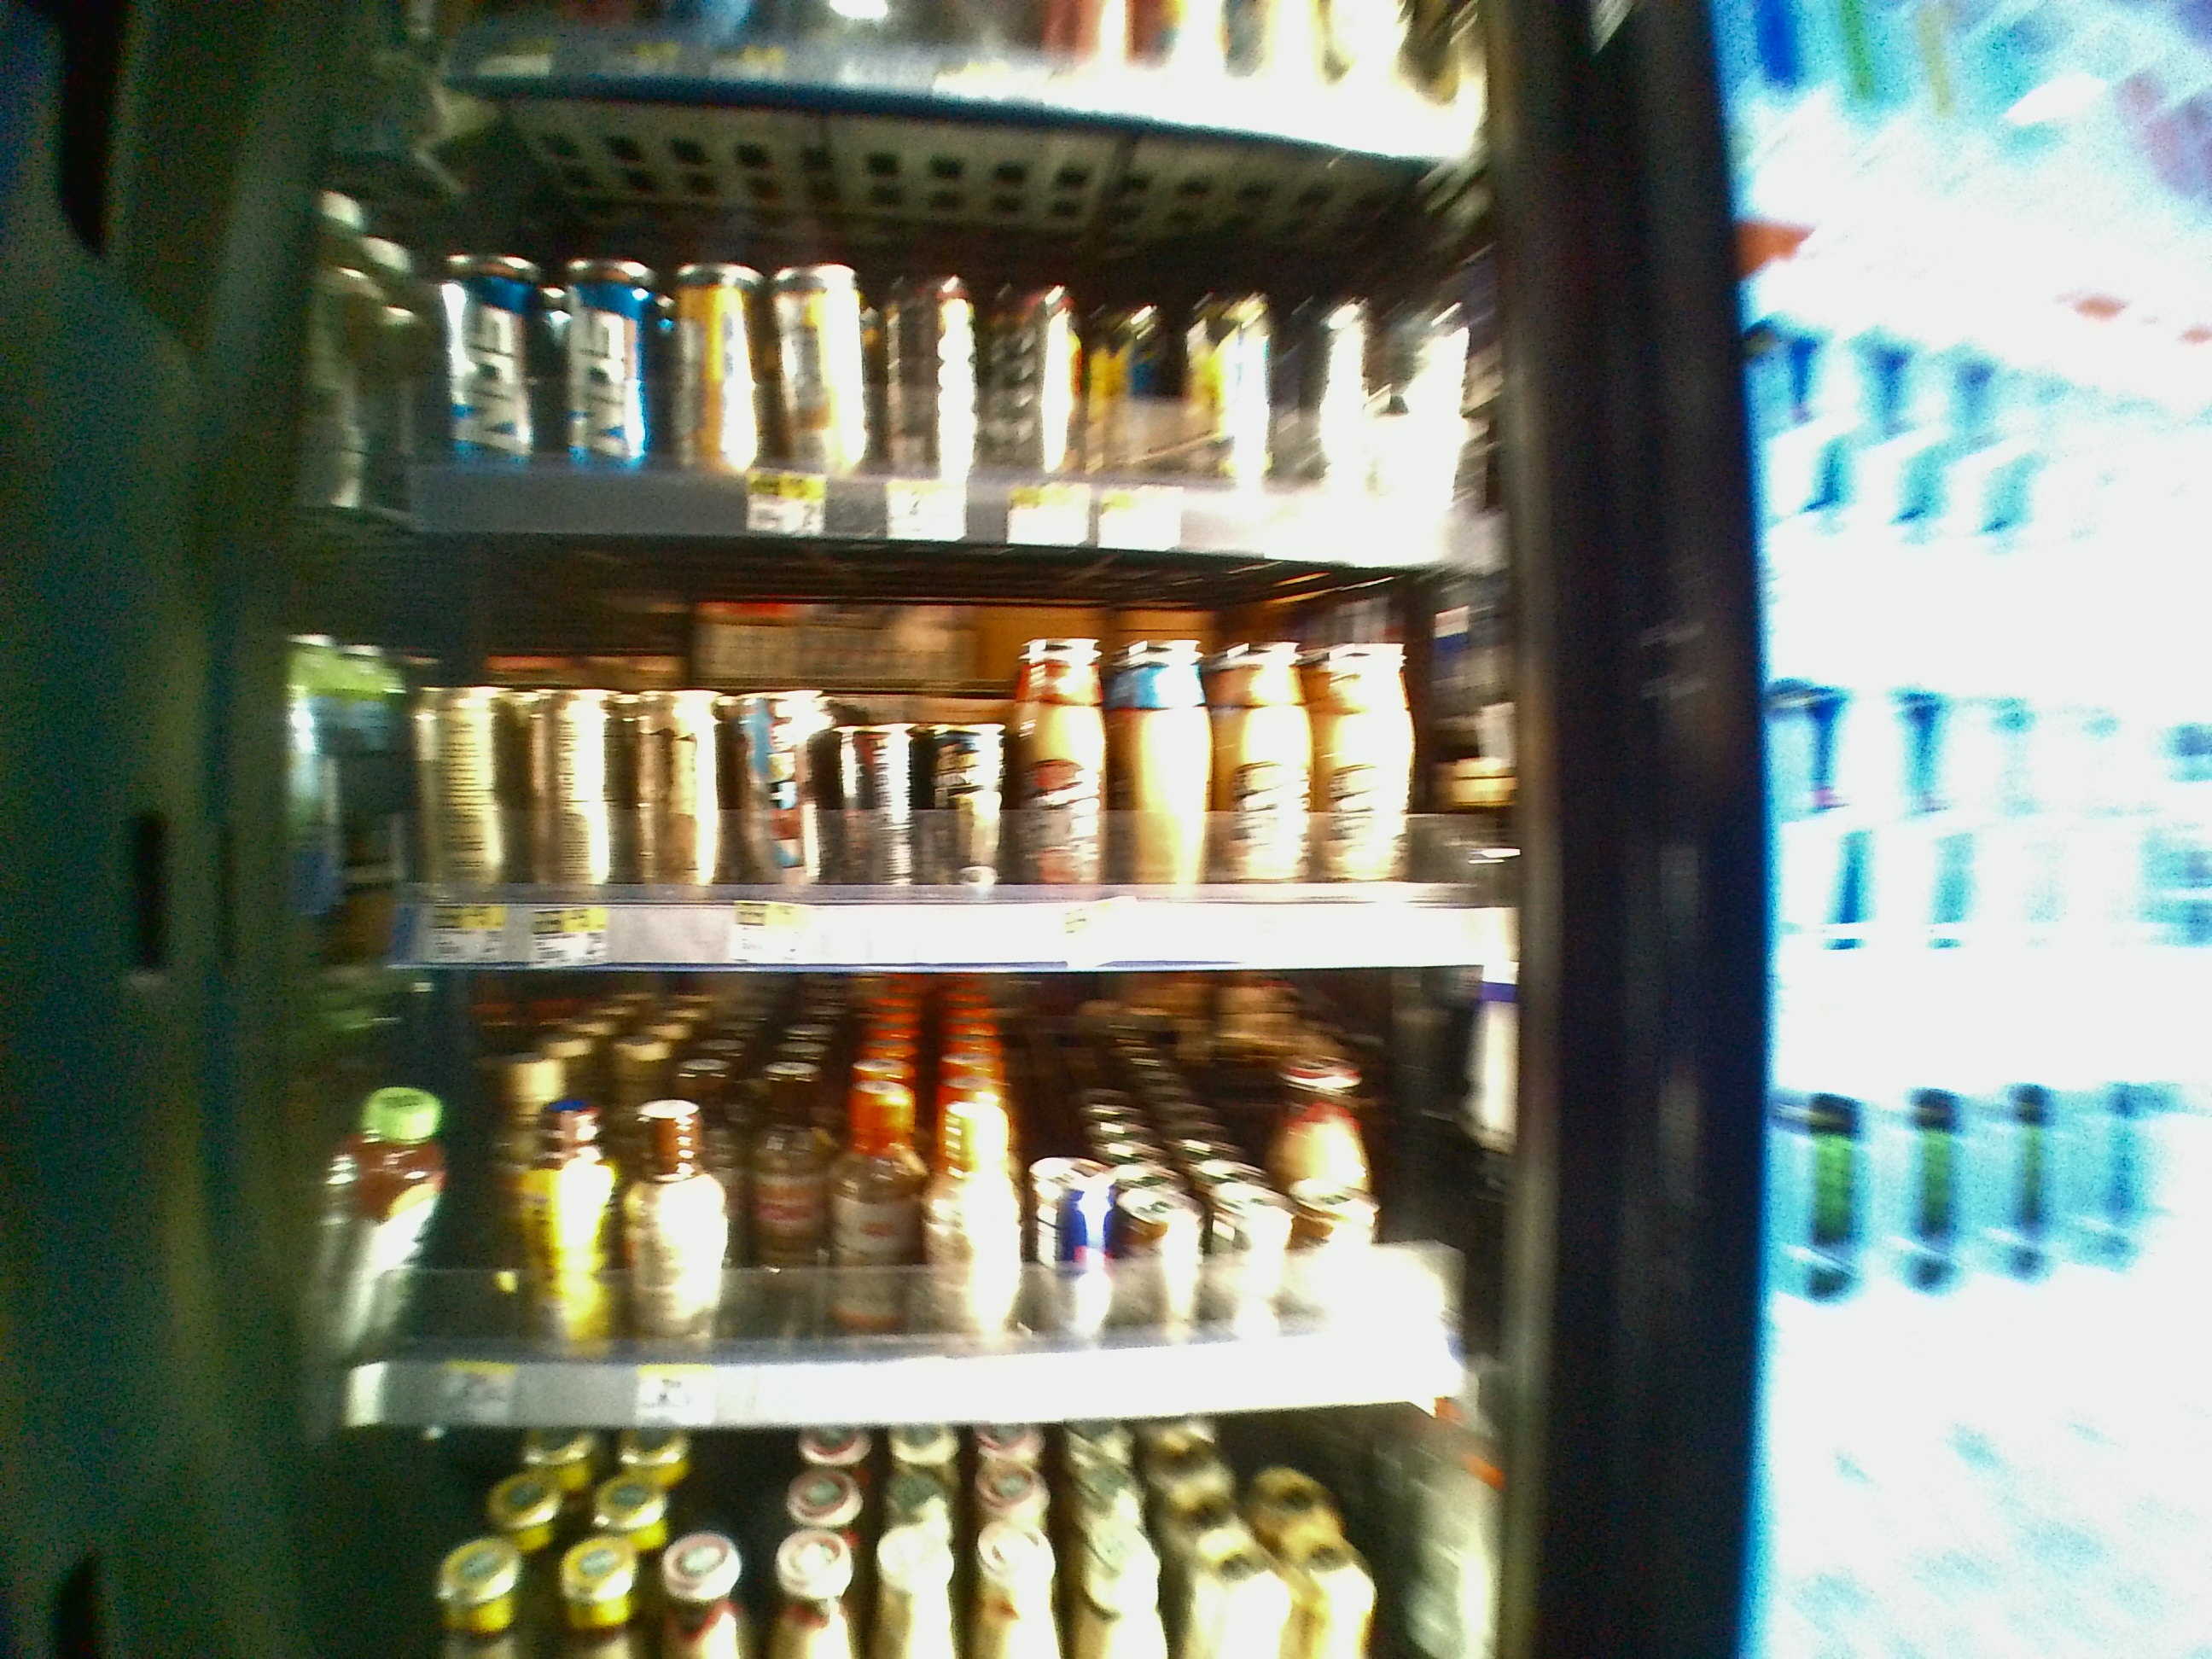shelf: (266, 972, 1548, 1417), (280, 523, 1531, 972)
